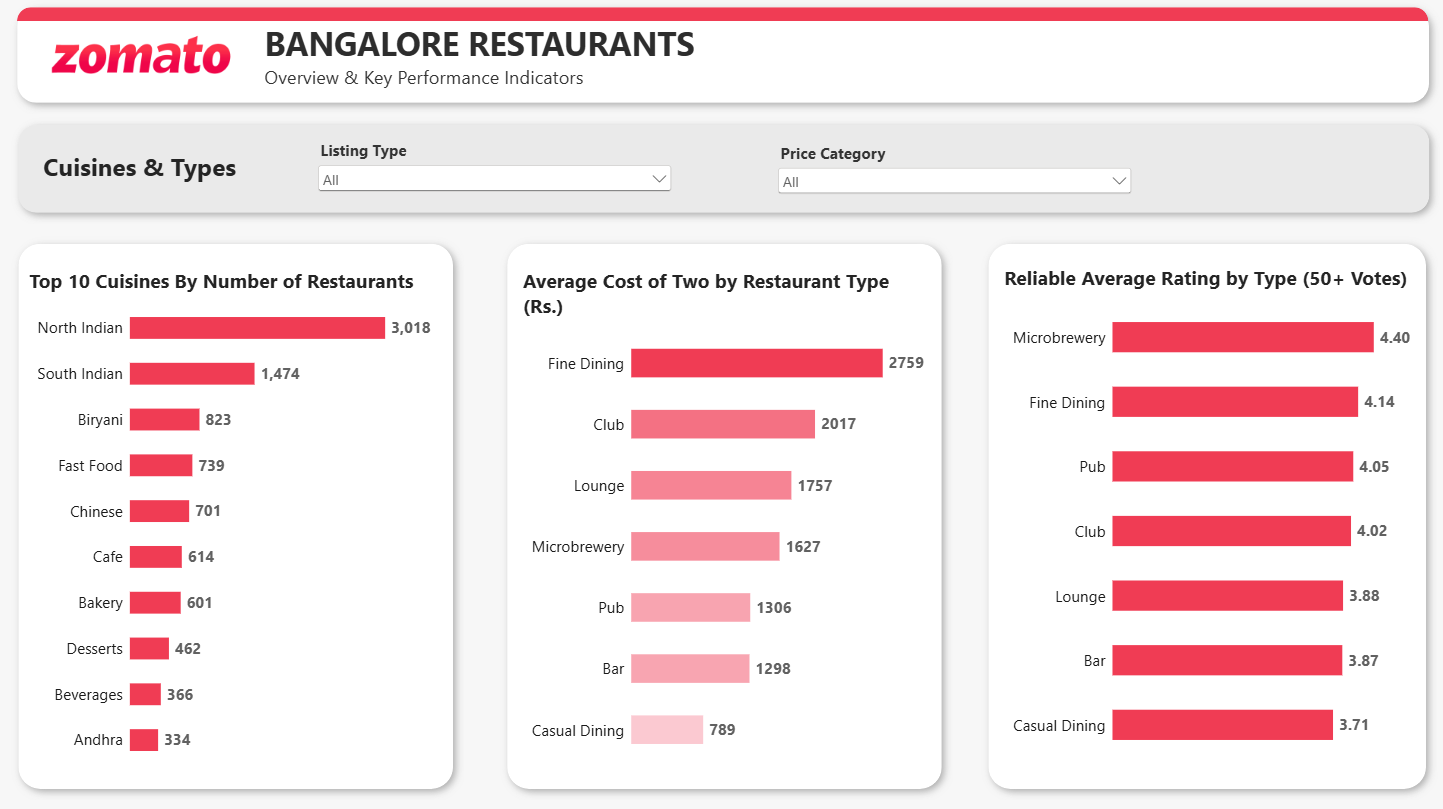

The page's visual inventory and layout, read from the dashboard file:
{"tool":"powerbi","page":{"name":"Cuisines &Type","canvas":[1920,1080],"ordinal":1},"visuals":[{"type":"group","id":"g1","title":"Group 1","box":[18.4,0,1881.6,155.1],"z":0},{"type":"shape","title":"Label shape","box":[19.6,154.9,1880.4,145.1],"z":1000},{"type":"textbox","box":[66.7,202,270.6,56.9],"z":2000},{"type":"slicer","title":"Label slicer 1","fields":{"Values":["listings.listing_type"]},"box":[423.5,188.2,472.7,70.9],"z":3000},{"type":"slicer","title":"Label slicer 1","fields":{"Values":["restaurants.price_category"]},"box":[1025.5,192.2,472.7,70.9],"z":4000},{"type":"shape","box":[19.6,309.8,600,745.1],"z":5000},{"type":"shape","box":[1292.2,309.8,603.9,745.1],"z":6000},{"type":"shape","box":[660.8,309.8,600,745.1],"z":7000},{"type":"shape","title":"Header shape","box":[18.4,0,1881.6,155.1],"z":8000,"group":"g1"},{"type":"clusteredBarChart","title":"Top 10 Cuisines By Number of Restaurants","fields":{"Category":["restaurants.primary_cuisine"],"Y":["restaurants.Total Restaurants"]},"box":[33.3,341.2,558.8,690.2],"z":8000},{"type":"textbox","title":"Header text box","box":[357.2,32.7,785.7,89.8],"z":9000,"group":"g1"},{"type":"clusteredBarChart","title":"Average Cost of Two by Restaurant Type (Rs.)","fields":{"Category":["restaurants.primary_rest_type"],"Y":["restaurants.Avg Cost for Two"]},"box":[680.4,341.2,558.8,690.2],"z":9000},{"type":"image","title":"Header image","box":[34.7,10.2,322.4,134.7],"z":10000,"group":"g1"},{"type":"clusteredBarChart","title":"Reliable Average Rating by Type (50+ Votes)","fields":{"Category":["restaurants.primary_rest_type"],"Y":["restaurants.Avg Rating"]},"box":[1311.8,337.3,564.7,690.2],"z":10000},{"type":"shape","title":"Header line","box":[32.8,14.5,1850.9,18.2],"z":11000,"group":"g1"}]}

Visuals, with their boxes in screenshot pixels (x1, y1, x2, y2), scaled from the page's 1920x1080 canvas onto the 1443x809 screenshot:
"Group 1" group: (left=14, top=0, right=1428, bottom=116)
"Label shape" shape: (left=15, top=116, right=1428, bottom=225)
textbox: (left=50, top=151, right=254, bottom=194)
"Label slicer 1" slicer: (left=318, top=141, right=674, bottom=194)
"Label slicer 1" slicer: (left=771, top=144, right=1126, bottom=197)
shape: (left=15, top=232, right=466, bottom=790)
shape: (left=971, top=232, right=1425, bottom=790)
shape: (left=497, top=232, right=948, bottom=790)
"Header shape" shape: (left=14, top=0, right=1428, bottom=116)
"Top 10 Cuisines By Number of Restaurants" clusteredBarChart: (left=25, top=256, right=445, bottom=773)
"Header text box" textbox: (left=268, top=24, right=859, bottom=92)
"Average Cost of Two by Restaurant Type (Rs.)" clusteredBarChart: (left=511, top=256, right=931, bottom=773)
"Header image" image: (left=26, top=8, right=268, bottom=109)
"Reliable Average Rating by Type (50+ Votes)" clusteredBarChart: (left=986, top=253, right=1410, bottom=770)
"Header line" shape: (left=25, top=11, right=1416, bottom=24)
